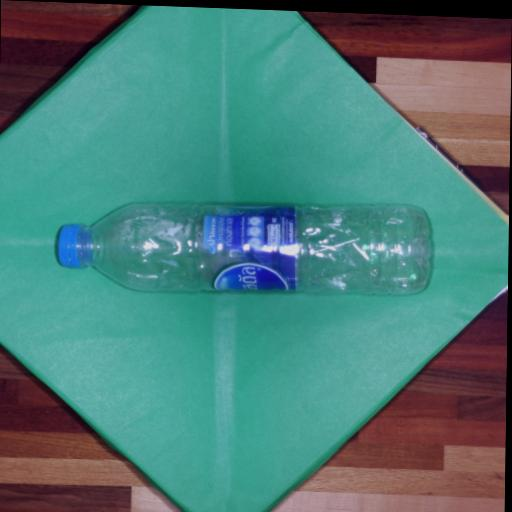bottle: (57, 204, 429, 293)
